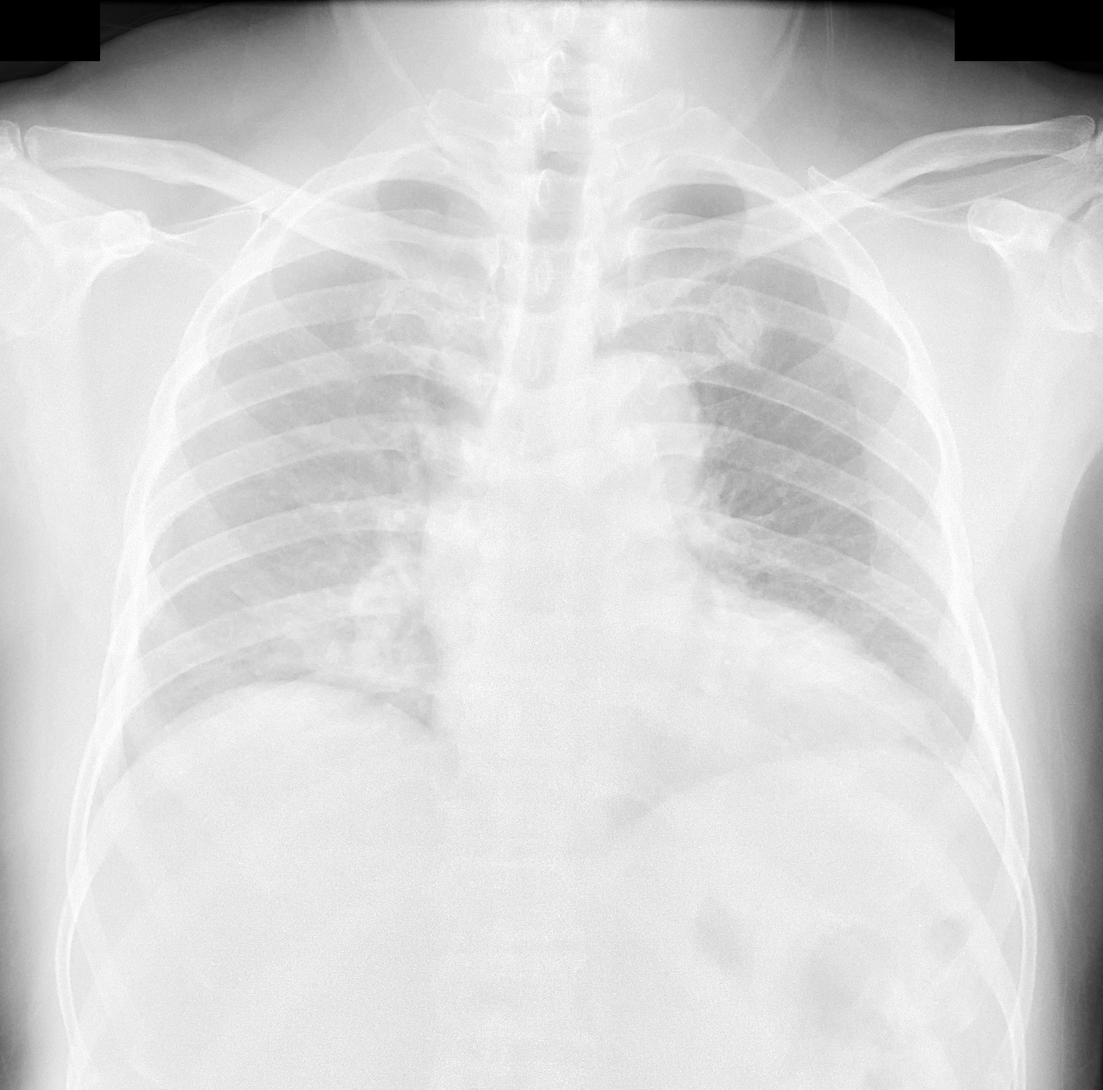Aortic enlargement: (578, 352, 703, 497)
Cardiomegaly: (418, 583, 922, 736)
